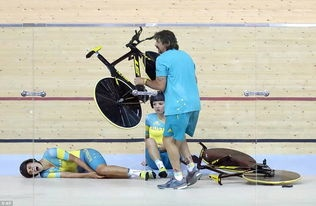falling: (132, 87, 187, 182)
